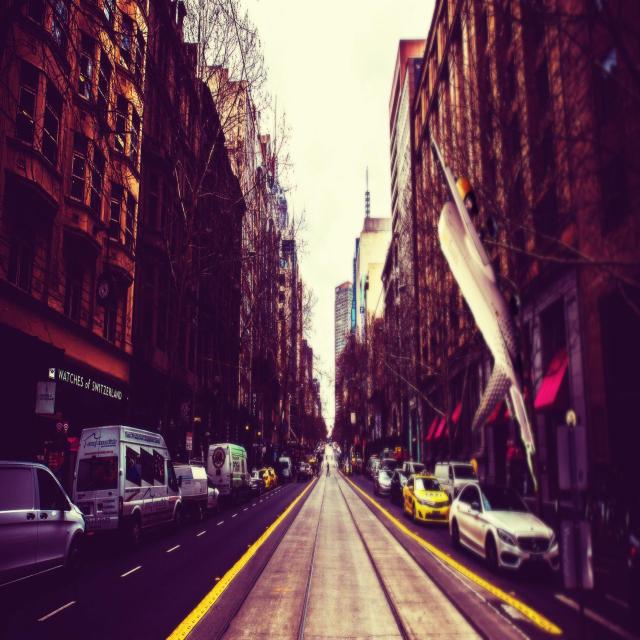airplane: (429, 135, 538, 492)
